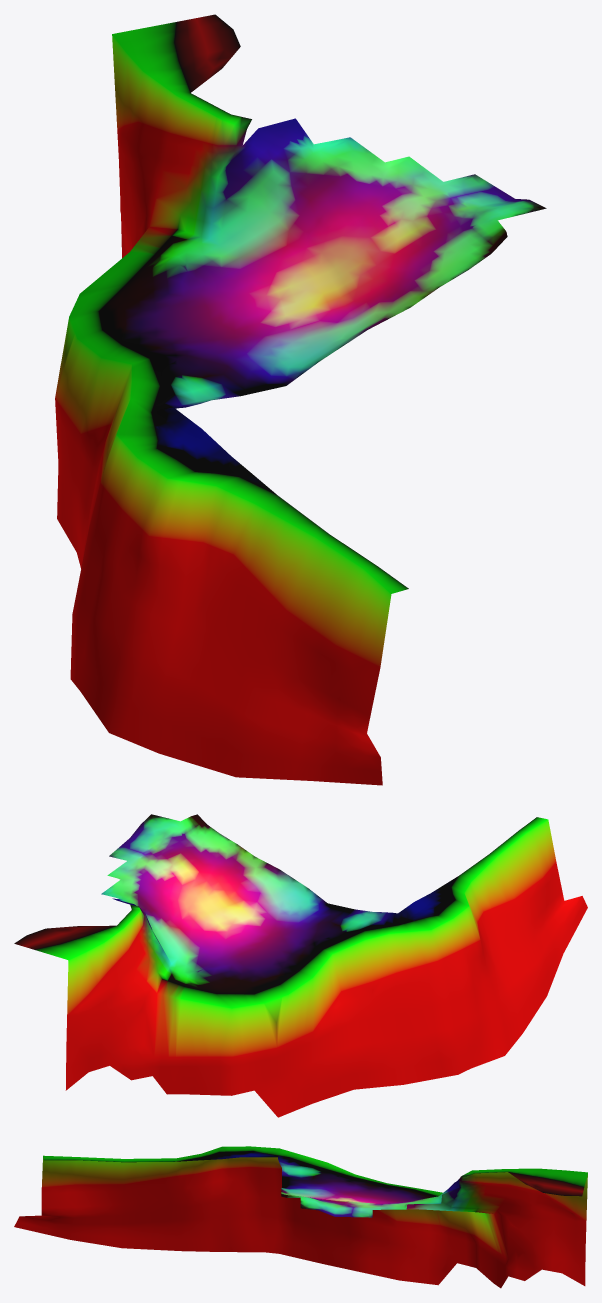
Rendered from Level_01_Terrain_B.fbx.
The picture shows the model from 3 angles, top to bottom: view 1: azimuth 30°, elevation 25°; view 2: azimuth 150°, elevation 25°; view 3: azimuth 270°, elevation 25°; orthographic projection. The views are drawn at different scales.
Parts seen in each view (by area): view 1: Geometry_Level_01_Terrain_B_LOD00; view 2: Geometry_Level_01_Terrain_B_LOD00; view 3: Geometry_Level_01_Terrain_B_LOD00.
Part boxes in pixels (x1=…): Geometry_Level_01_Terrain_B_LOD00: x1=55, y1=14, x2=546, y2=785; Geometry_Level_01_Terrain_B_LOD00: x1=14, y1=814, x2=587, y2=1117; Geometry_Level_01_Terrain_B_LOD00: x1=14, y1=1146, x2=587, y2=1288.
Size of the model in its own units: 3427 by 6554 by 2147.
